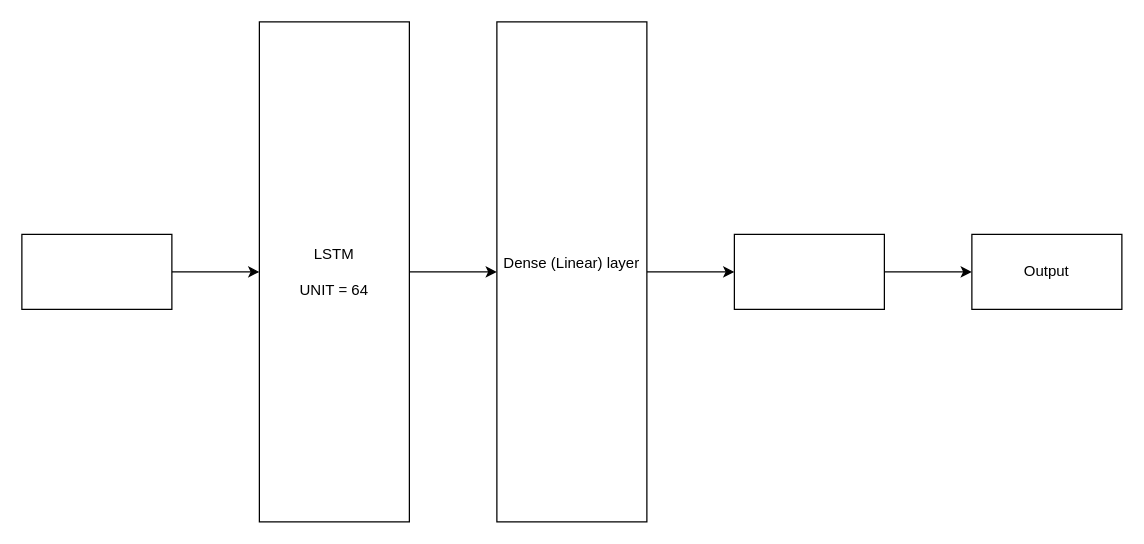
Image size: 1144x544. Some labels were removed from this diagram. The shapes that lost their labels are listed below. From the top down, each one's centre as x and y in pixels, then its label:
At (96,271): "Transformed Data".
At (808,271): "Denormalize".
